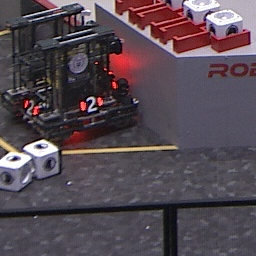Red: (77, 96, 105, 113), (23, 98, 38, 117)
Robot: (5, 6, 143, 138)
